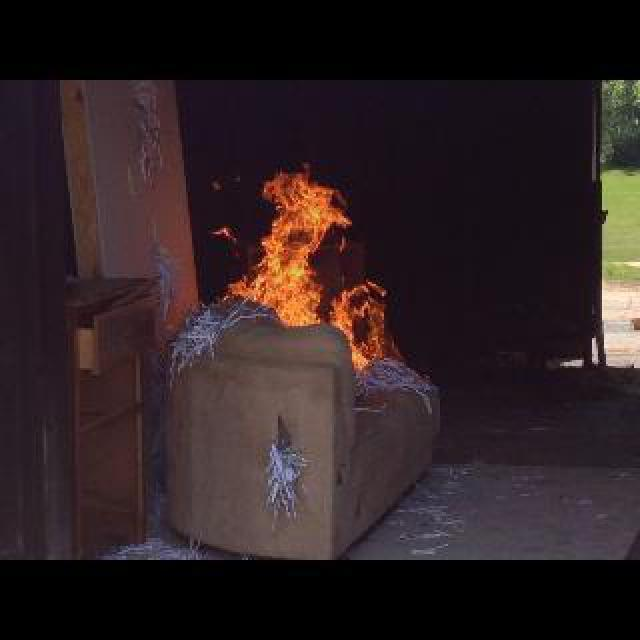Fire: (228, 167, 350, 325), (336, 280, 387, 370)
